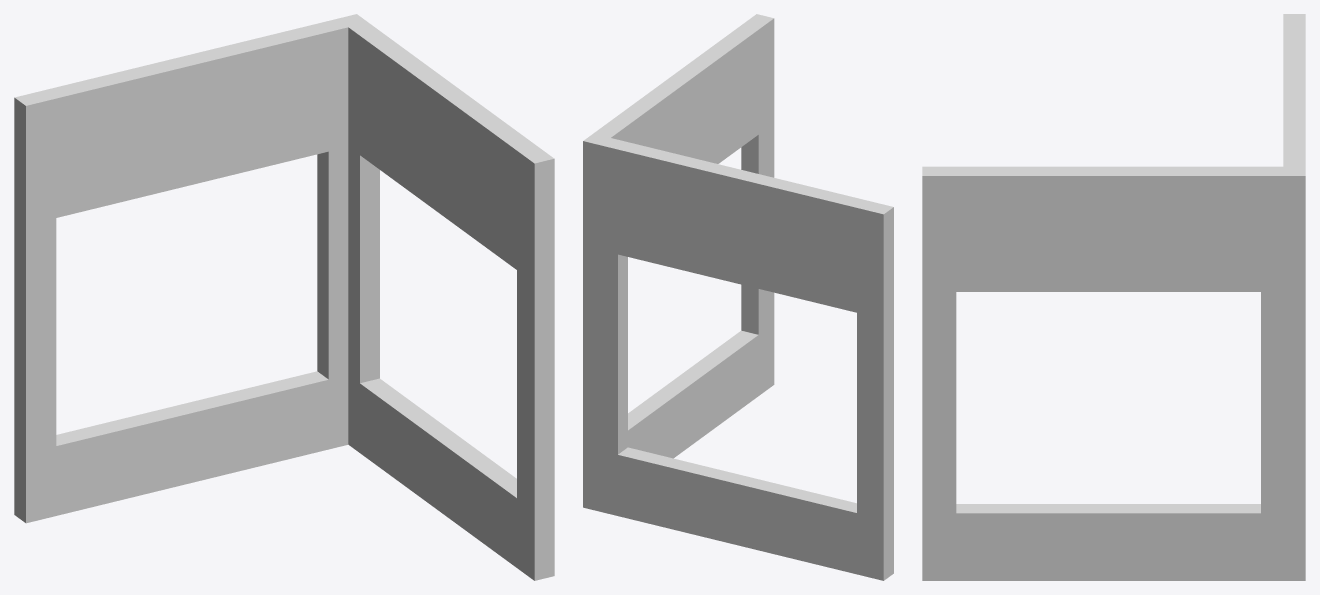
The model's file is Wall1_C1_15.fbx.
The picture shows the model from 3 angles, left to right: view 1: azimuth 30°, elevation 25°; view 2: azimuth 150°, elevation 25°; view 3: azimuth 270°, elevation 25°; orthographic projection. The views are drawn at different scales.
Visible parts, largest first — view 1: Wall1_C1_15; view 2: Wall1_C1_15; view 3: Wall1_C1_15.
Boxes of the visible parts, bbox=[...] form: Wall1_C1_15: bbox=[14, 14, 554, 580]; Wall1_C1_15: bbox=[583, 14, 893, 580]; Wall1_C1_15: bbox=[922, 14, 1305, 580].
Size of the model in its own units: 258 by 300 by 258.
